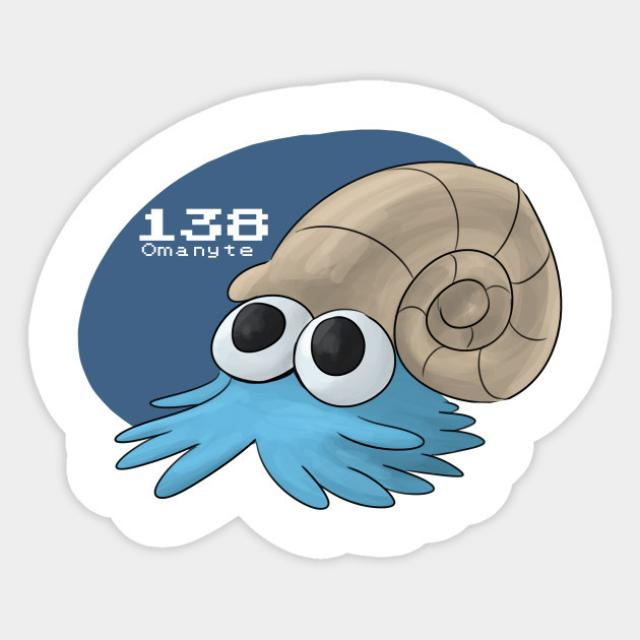Omanyte: (194, 166, 556, 490)
